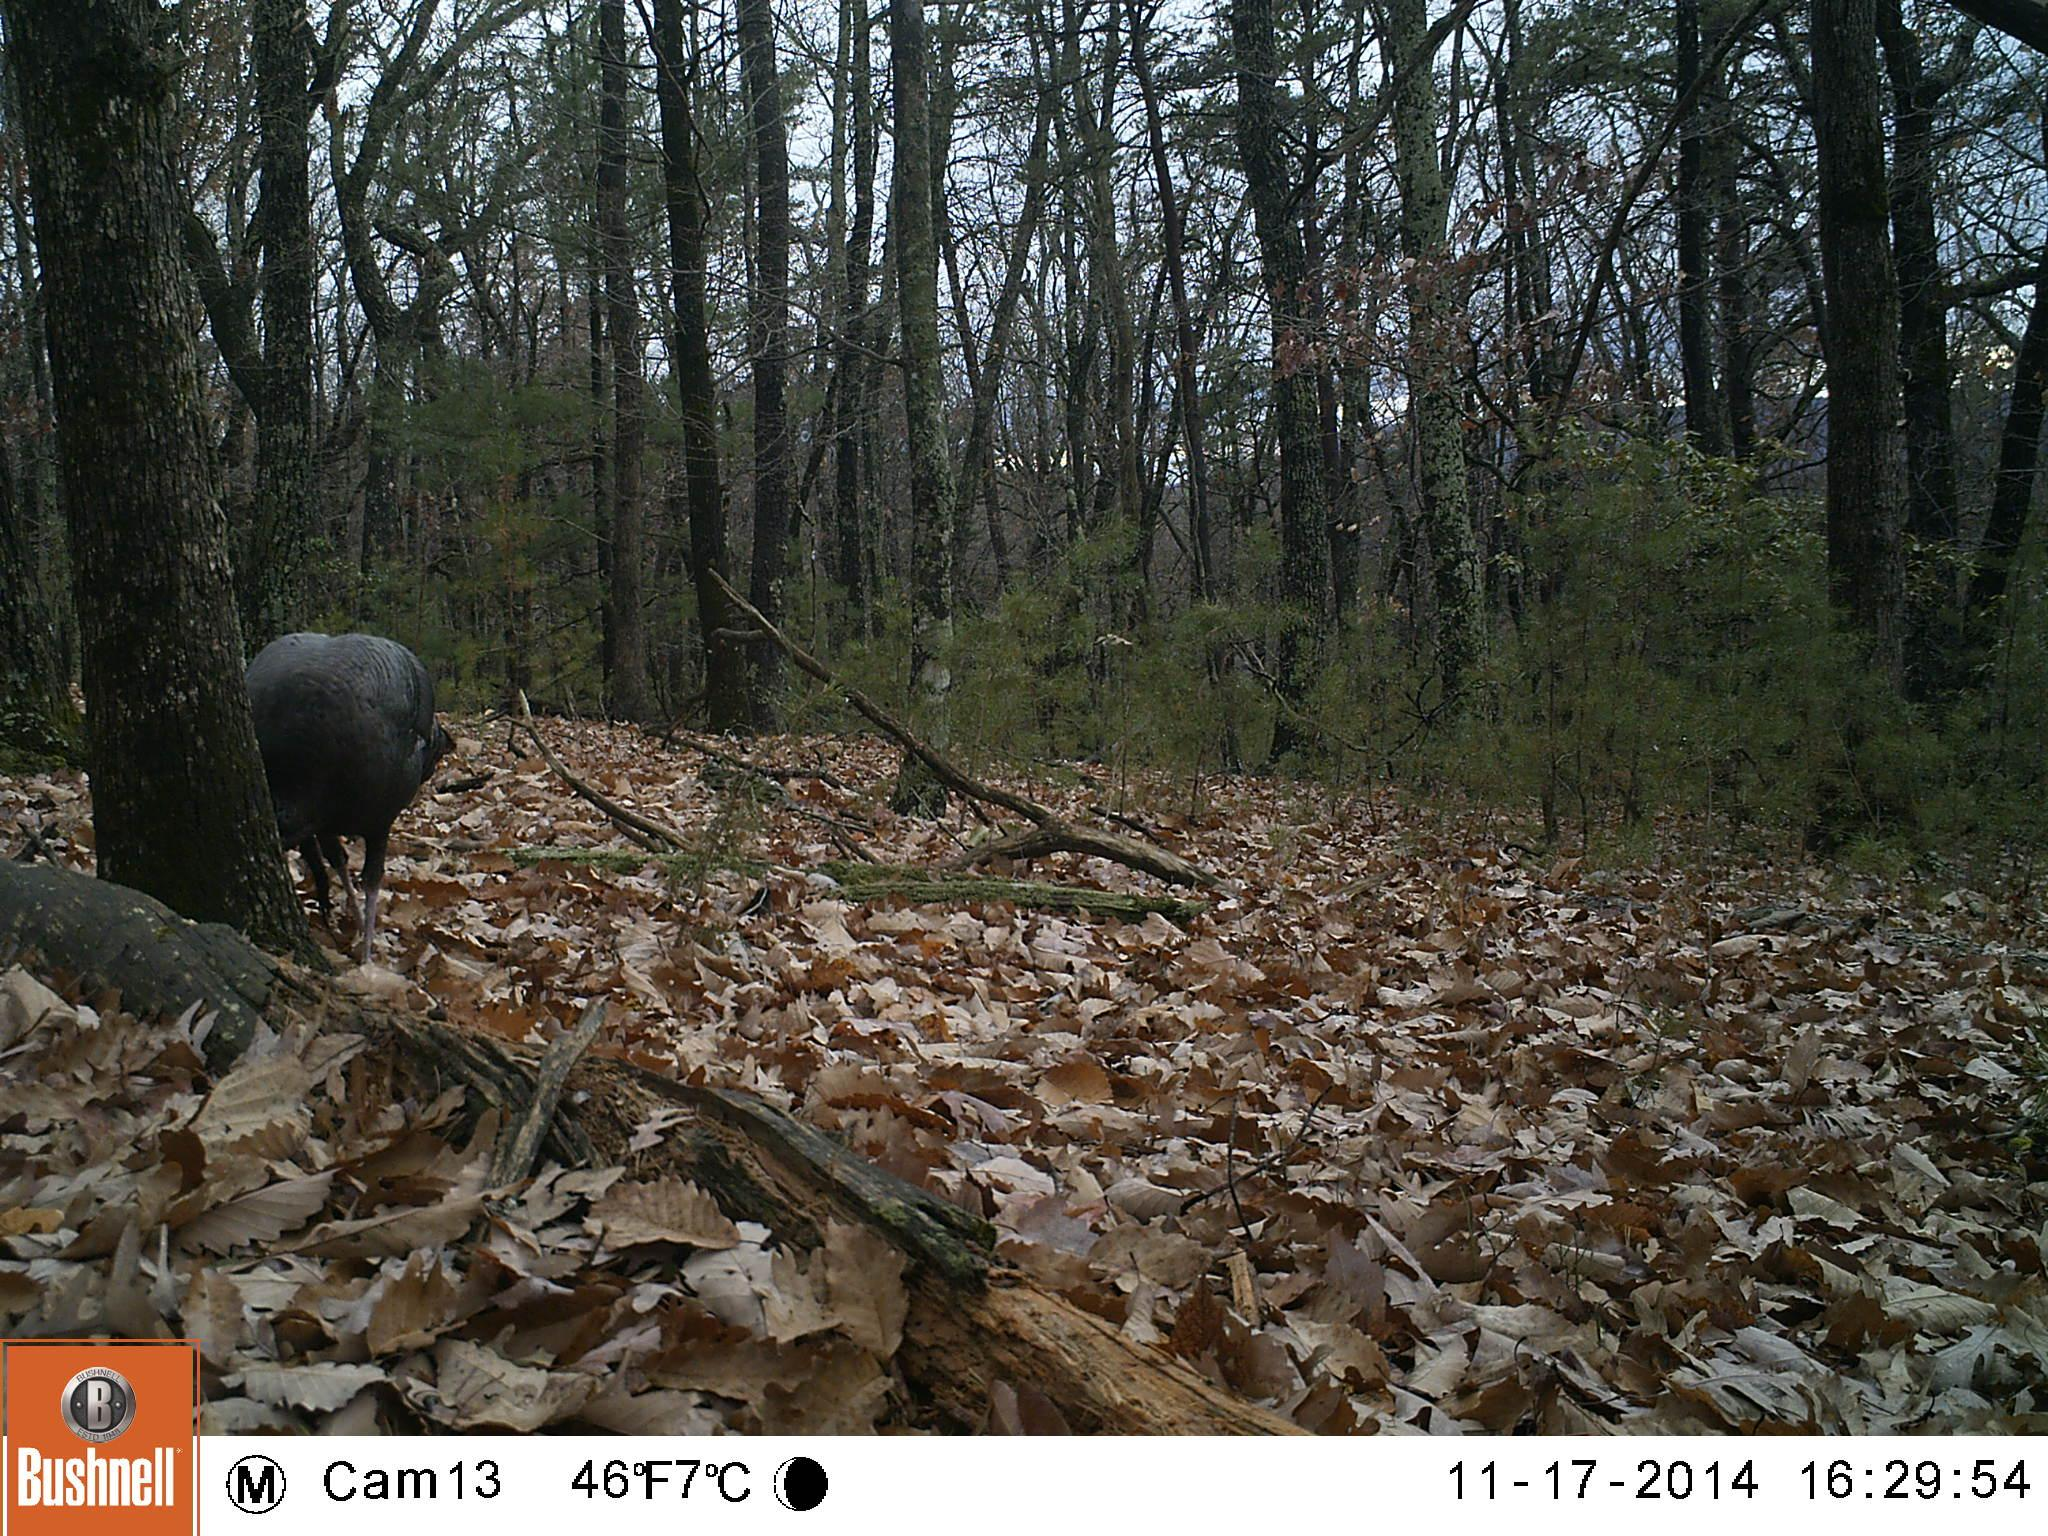Animal: (248, 629, 460, 955)
